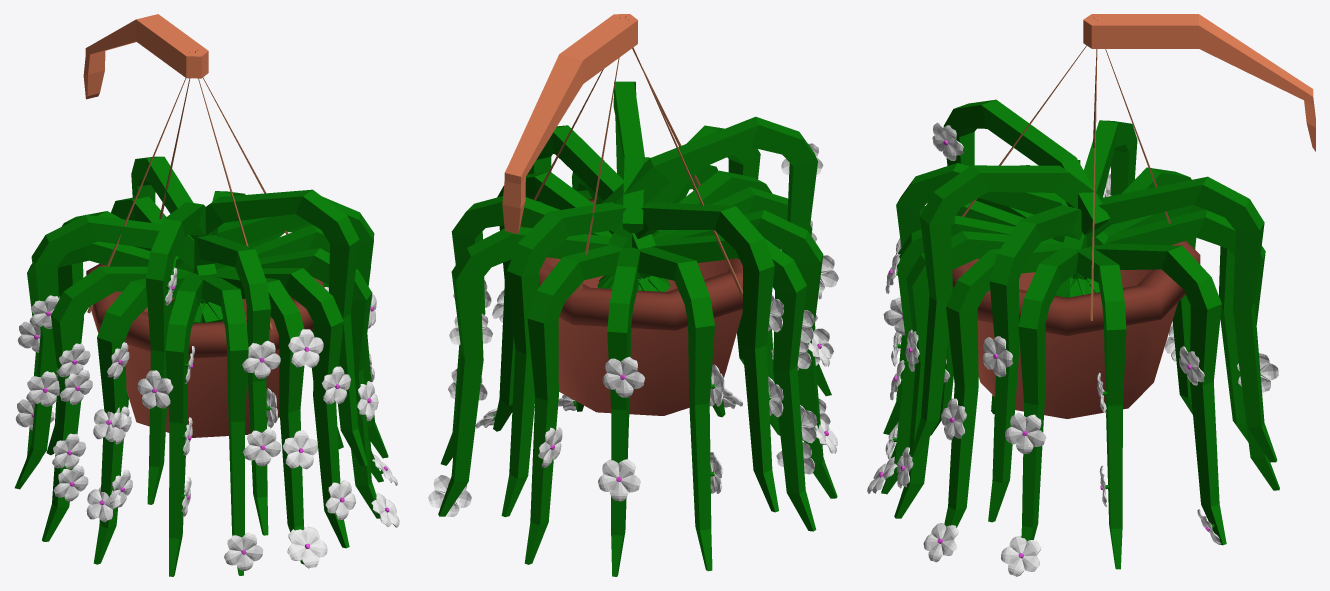
Rendered from Plant-HangingFromBasket-1.fbx.
3 views of the same model, side by side, from view 1: azimuth 30°, elevation 25°; view 2: azimuth 150°, elevation 25°; view 3: azimuth 270°, elevation 25° (orthographic). The views are drawn at different scales.
Visible parts, largest first — view 1: Plane.048; view 2: Plane.048; view 3: Plane.048.
Part boxes in pixels (x1,y1,x2,y2): Plane.048: [14, 14, 399, 576]; Plane.048: [428, 14, 838, 576]; Plane.048: [867, 14, 1315, 576].
Size of the model in its own units: 743 by 825 by 972.
